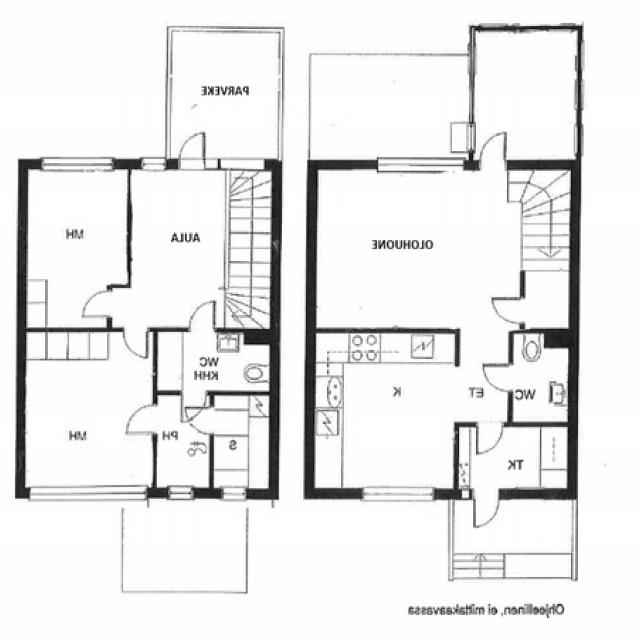door: (179, 131, 204, 170), (482, 134, 506, 171), (475, 489, 499, 525), (477, 421, 503, 454), (128, 406, 158, 432), (190, 301, 215, 332), (483, 364, 512, 390), (496, 298, 524, 324), (124, 327, 148, 357), (186, 408, 214, 433), (84, 292, 112, 317), (183, 390, 206, 420)
